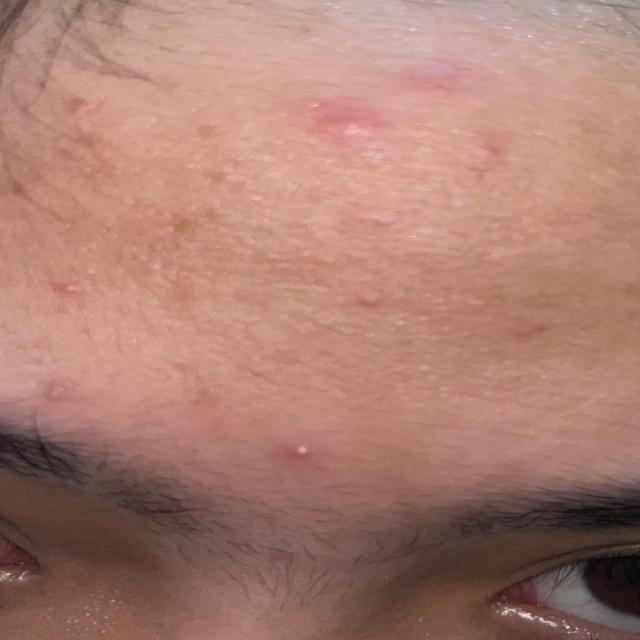papule: (280, 37, 549, 186)
pustule: (270, 429, 326, 481), (51, 270, 102, 314)
